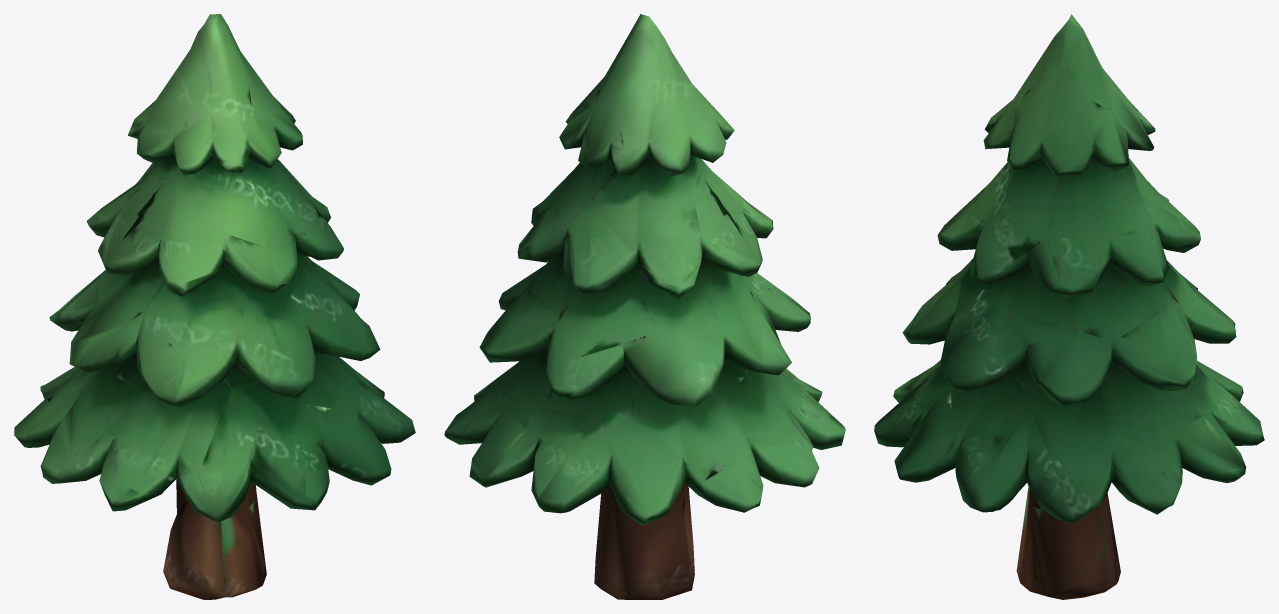
File: tanenbaum_pbr.glb
The picture shows the model from 3 angles, left to right: view 1: azimuth 30°, elevation 25°; view 2: azimuth 150°, elevation 25°; view 3: azimuth 270°, elevation 25°; orthographic projection.
Visible parts, largest first — view 1: model; view 2: model; view 3: model.
Boxes of the visible parts, left/top/right/bottom form: model: left=14, top=14, right=415, bottom=599; model: left=444, top=14, right=845, bottom=599; model: left=874, top=14, right=1264, bottom=599.
Bounding box in the file's own units: 1.15 × 1.84 × 1.15.
1 material, 1 textured.
